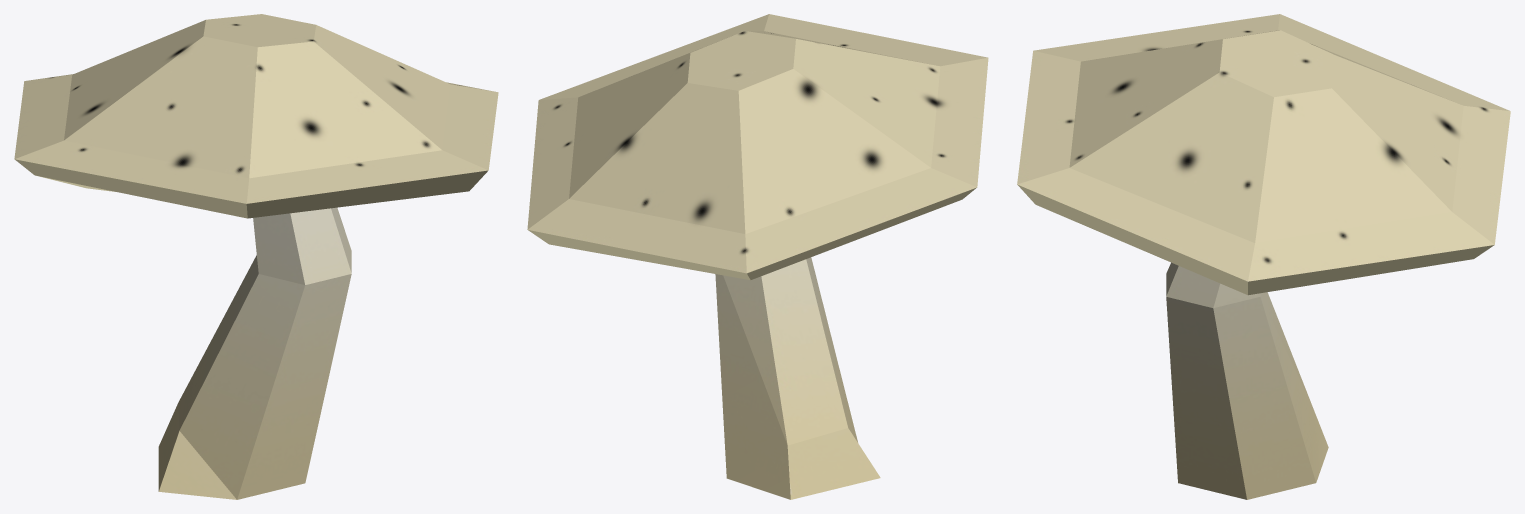
File: ds-Mushroom_002.fbx
3 renders of one model, left to right at view 1: azimuth 30°, elevation 25°; view 2: azimuth 150°, elevation 25°; view 3: azimuth 270°, elevation 25°, orthographic. The views are drawn at different scales.
Parts seen in each view (by area): view 1: Cylinder; view 2: Cylinder; view 3: Cylinder.
Boxes of the visible parts, x1,y1,x2,y2 form: Cylinder: (14, 14, 498, 499); Cylinder: (527, 14, 988, 499); Cylinder: (1017, 14, 1510, 499).
Size of the model in its own units: 786 by 683 by 709.
Materials: 1 (1 with a texture image).
